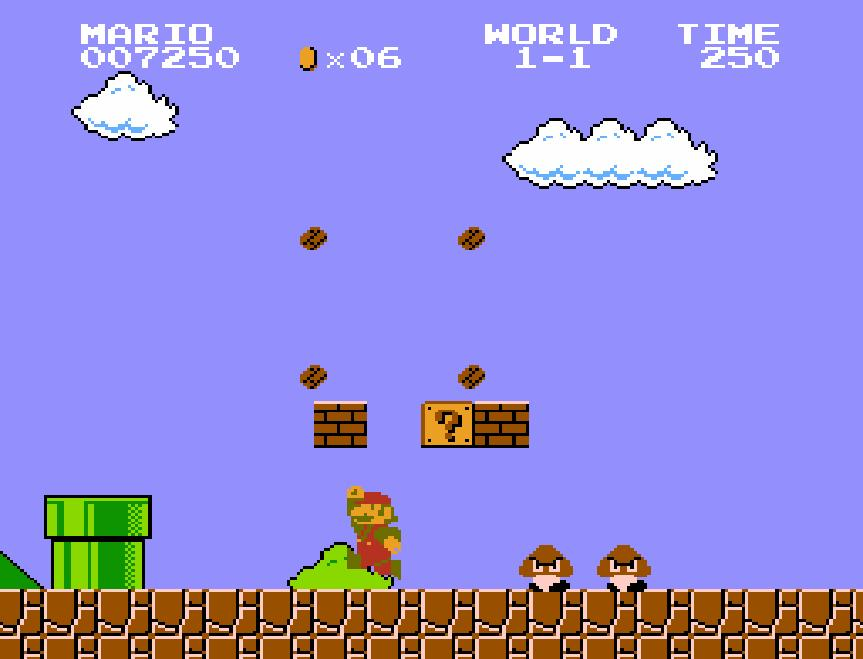big_mario: (345, 484, 403, 582)
